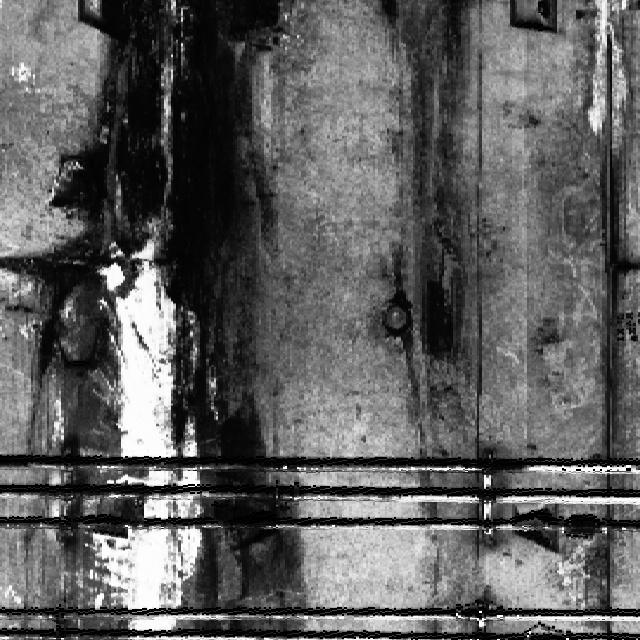leakage: (28, 0, 320, 638)
